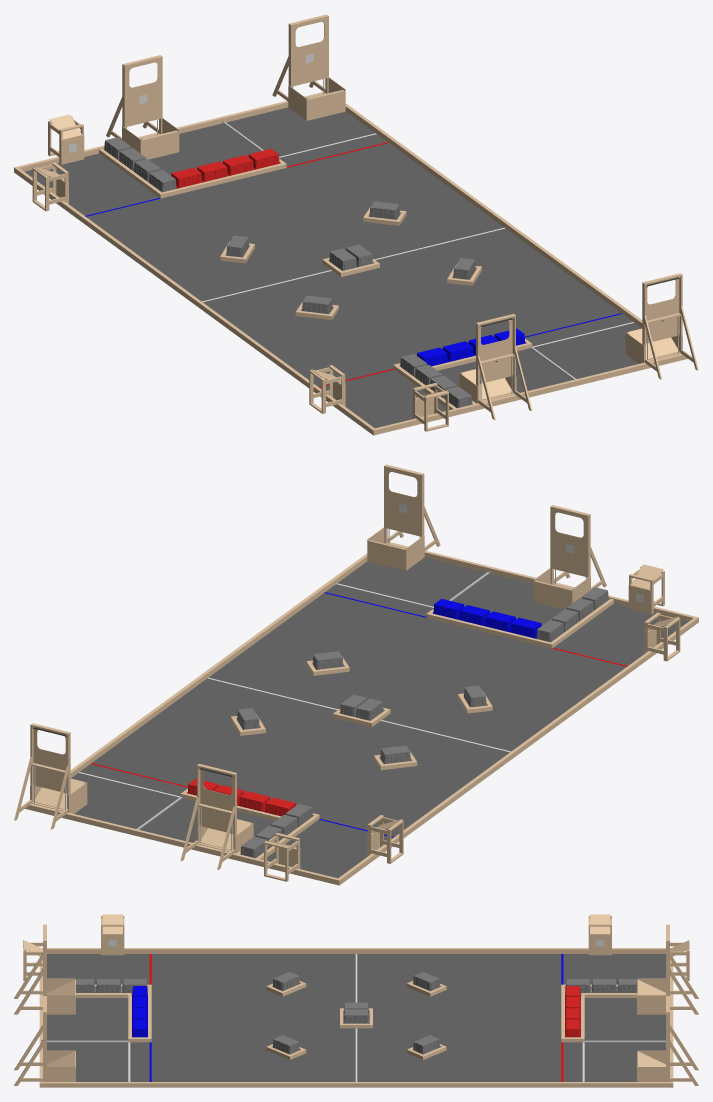
3 views of the same model, one above another, from view 1: azimuth 30°, elevation 25°; view 2: azimuth 150°, elevation 25°; view 3: azimuth 270°, elevation 25° (orthographic). The views are drawn at different scales.
Parts seen in each view (by area): view 1: Carpet, 40" x 62" x 1/2" Ply (×4), 40" x 21" x 1/2" ply (×2); view 2: Carpet, 40" x 62" x 1/2" Ply (×4), 40" x 21" x 1/2" ply (×2); view 3: Carpet, Field Perim 4x4 96" (×10), 33-1/2" x 22" x 1/2" ply (×4), 24" x 24" x 1/2" ply (×2), 26" x 21" x 1/2" ply (×2), 37" x 34-1/2" x 1/2" ply (×2).
Part boxes in pixels (x1=…): Carpet: x1=24, y1=107, x2=641, y2=428; 40" x 62" x 1/2" Ply (×4): x1=124, y1=16, x2=679, y2=384; 40" x 21" x 1/2" ply (×2): x1=140, y1=90, x2=345, y2=159; Carpet: x1=71, y1=557, x2=688, y2=878; 40" x 62" x 1/2" Ply (×4): x1=33, y1=466, x2=588, y2=834; 40" x 21" x 1/2" ply (×2): x1=367, y1=540, x2=572, y2=609; Carpet: x1=47, y1=954, x2=665, y2=1081; Field Perim 4x4 96" (×10): x1=60, y1=950, x2=652, y2=1087; 33-1/2" x 22" x 1/2" ply (×4): x1=43, y1=995, x2=669, y2=1081; 24" x 24" x 1/2" ply (×2): x1=101, y1=934, x2=611, y2=955; 26" x 21" x 1/2" ply (×2): x1=102, y1=914, x2=610, y2=933; 37" x 34-1/2" x 1/2" ply (×2): x1=47, y1=980, x2=665, y2=995.
Bounding box in the file's own units: 8.84 × 2.16 × 17.98.
